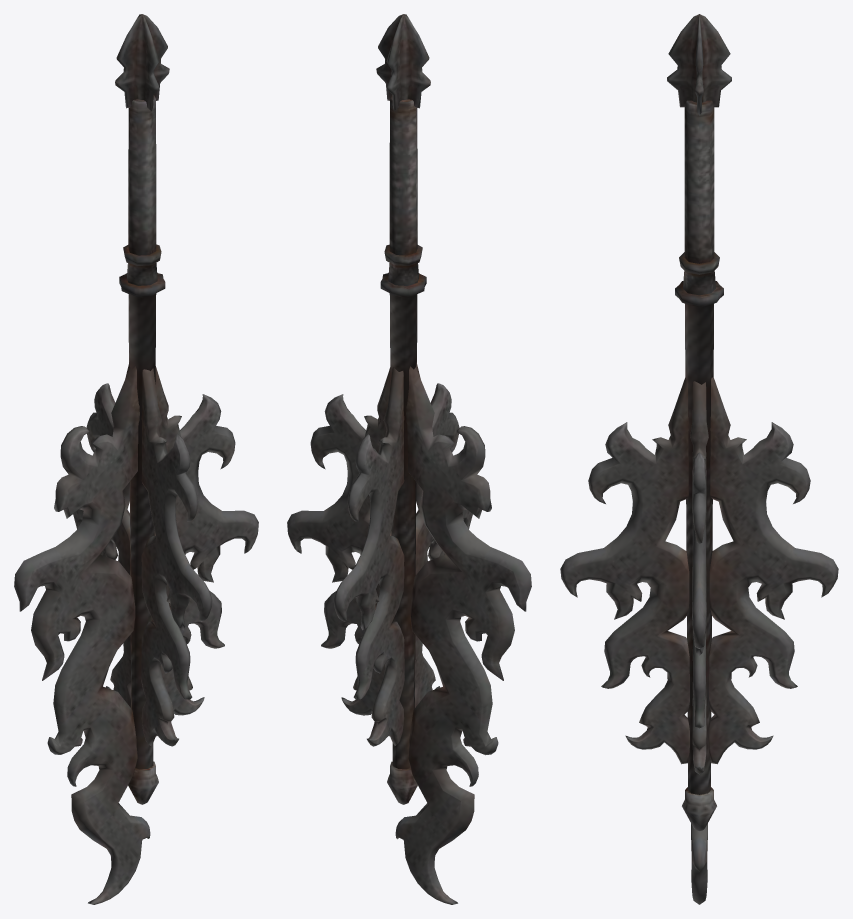
Rendered from weapon-wp_a_0806.glb.
3 views of the same model, side by side, from view 1: azimuth 30°, elevation 25°; view 2: azimuth 150°, elevation 25°; view 3: azimuth 270°, elevation 25° (orthographic). The views are drawn at different scales.
Parts seen in each view (by area): view 1: wp_a_0806_mesh; view 2: wp_a_0806_mesh; view 3: wp_a_0806_mesh.
Boxes of the visible parts, left/top/right/bottom form: wp_a_0806_mesh: left=14, top=14, right=258, bottom=904; wp_a_0806_mesh: left=287, top=14, right=531, bottom=904; wp_a_0806_mesh: left=560, top=14, right=838, bottom=904.
Bounding box in the file's own units: 0.3388 × 1.16 × 0.3227.
Materials: 1 (1 with a texture image).
